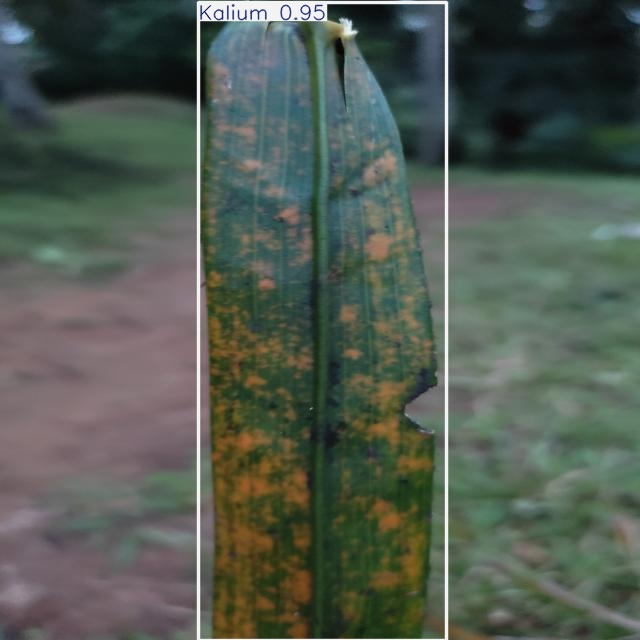Kalium: (199, 2, 446, 640)
